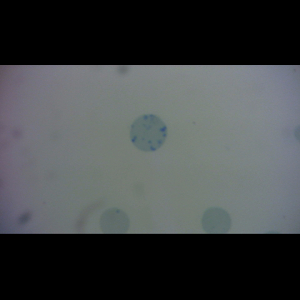aggregate reticulocyte: (128, 113, 169, 153)
erythrocyte: (200, 206, 232, 233)
punctate reticulocyte: (98, 207, 132, 234)
